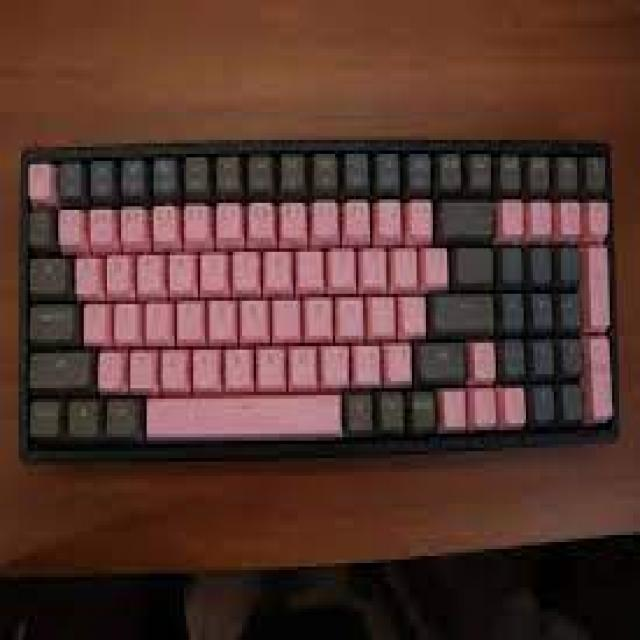others: (14, 133, 628, 444)
